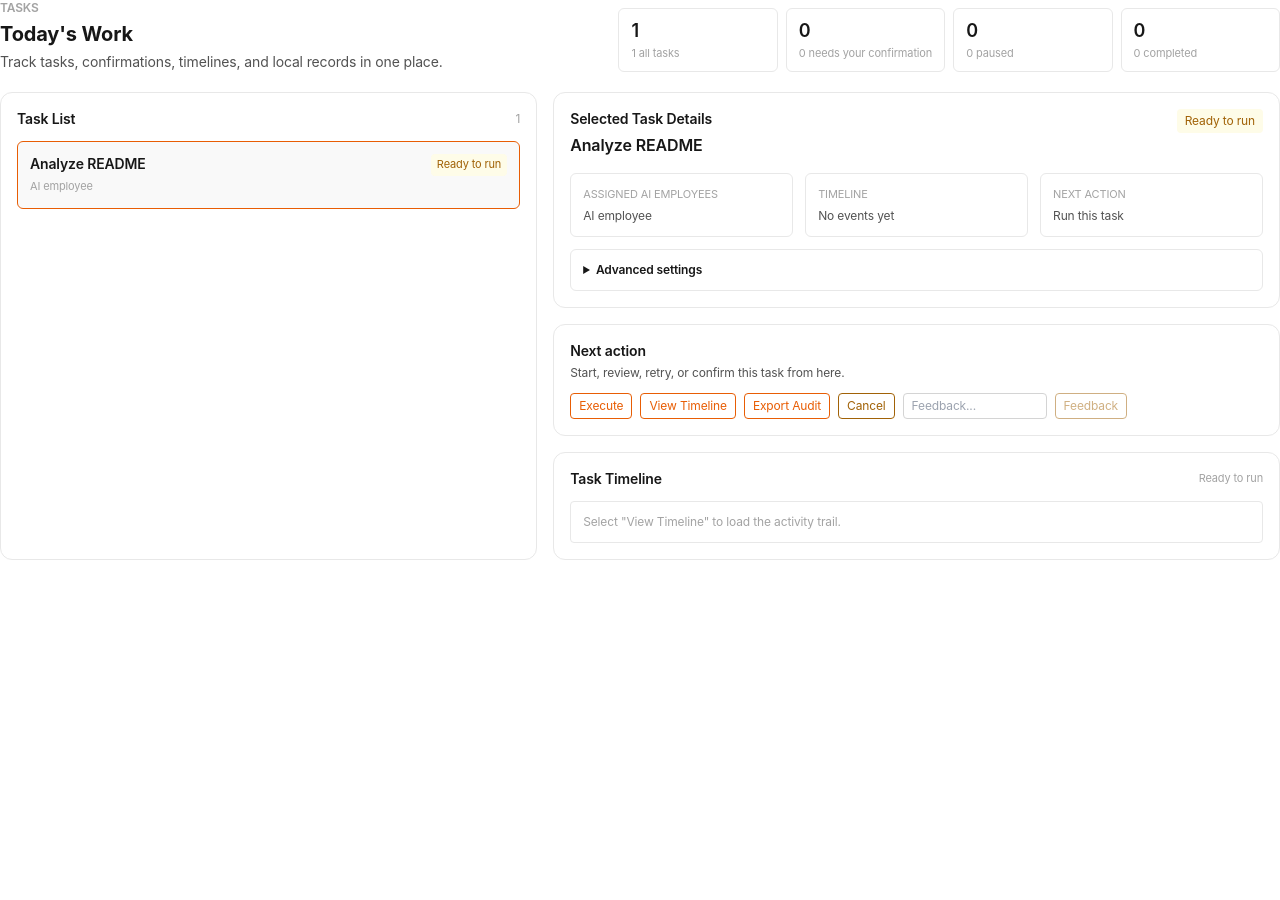
WorkOrders › renders Green execution result inline and auto-loads the row timeline
Click the button "Execute": (601, 406) 570,393 -> 632,419
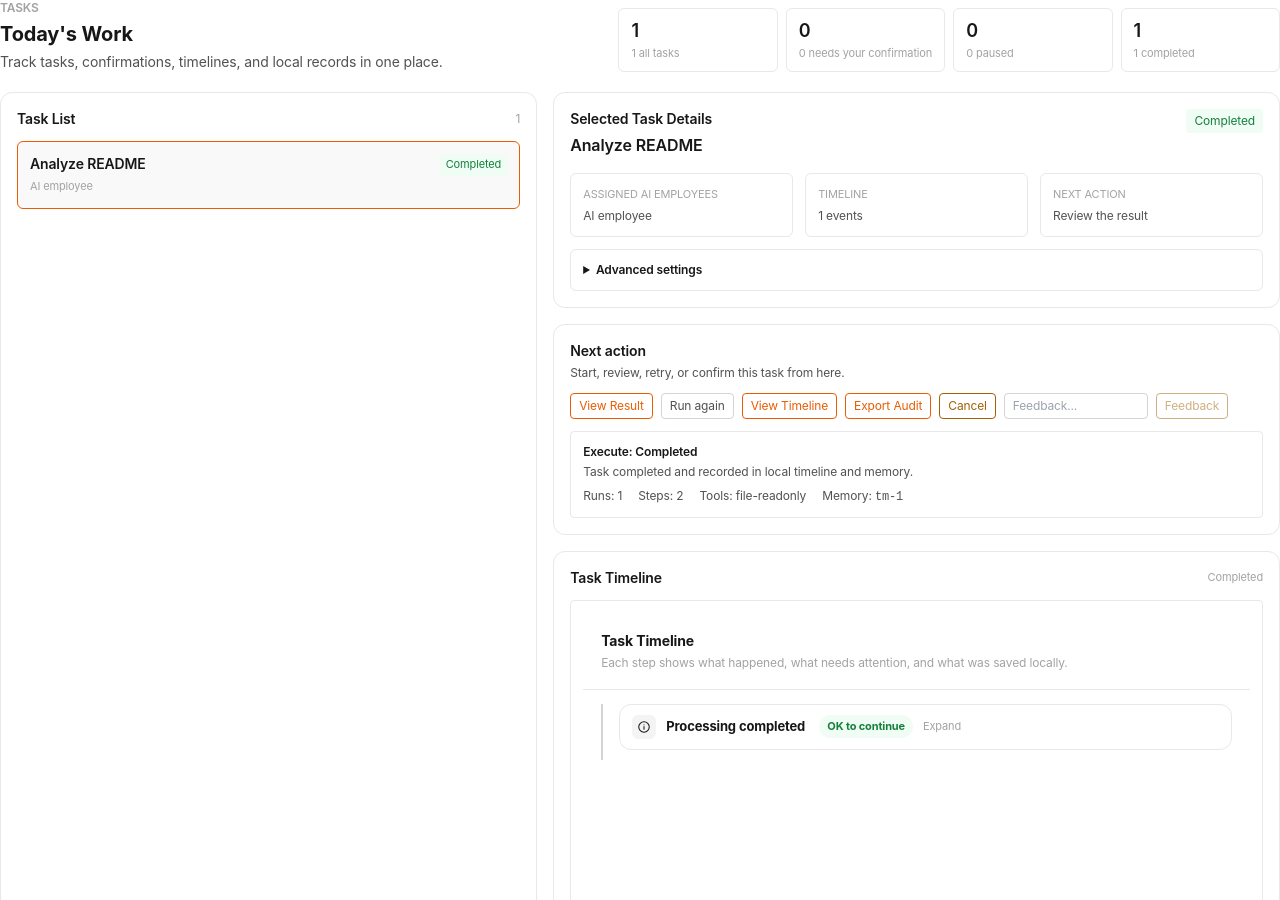
Now the text "Task completed and recorded in local timeline and memory." is shown, box 583,464 -> 913,479
Now the text "Memory: tm-1" is shown, box 822,488 -> 903,505
Now the text "Processing completed" is shown, box 666,716 -> 809,737
